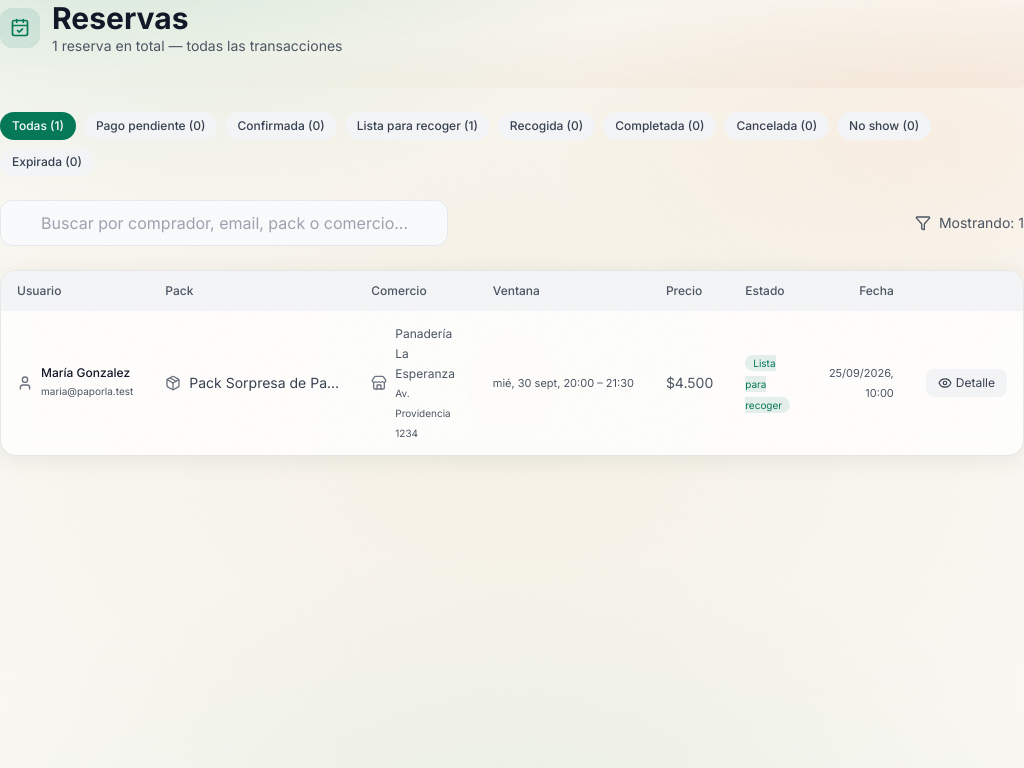
Test: AdminReservationsPage (ADMIN-1) › la fila completa también abre la ficha
This screenshot has width=1024, height=768.
Step 1. Click the text "Pack Sorpresa de Panadería" → [264, 383], box [189, 373, 339, 393]
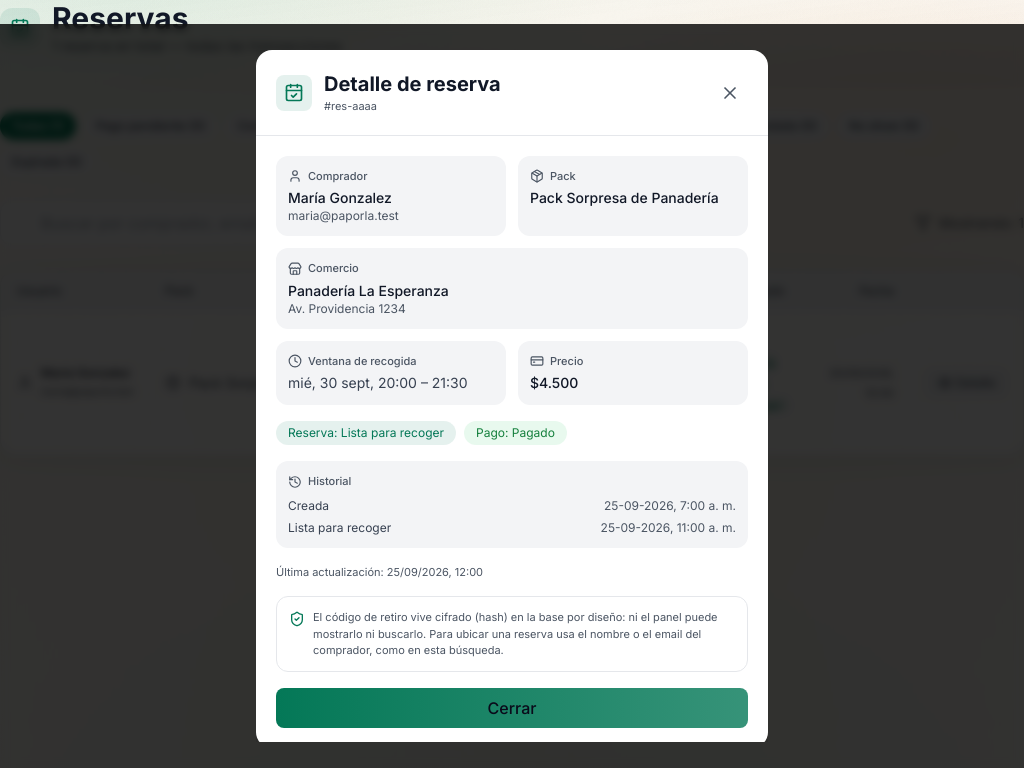
Now the heading "Detalle de reserva" is shown, box [324, 70, 501, 98]
